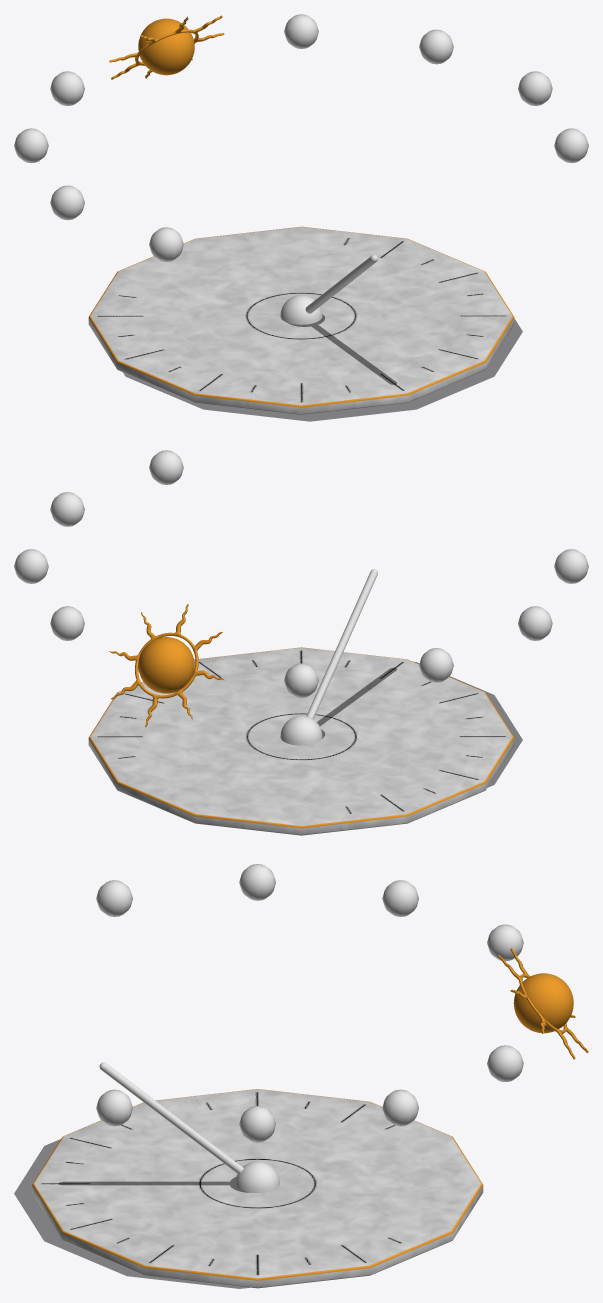
Rendered from sundail.glb.
3 views of the same model, one above another, from view 1: azimuth 30°, elevation 25°; view 2: azimuth 150°, elevation 25°; view 3: azimuth 270°, elevation 25° (orthographic). The views are drawn at different scales.
Parts seen in each view (by area): view 1: SundialBase, Shadow, Sun, Rod, SunPosition.006, SunPosition.002, SunPosition.007, SunPosition.005, SunPosition.001, SunPosition.003, SunPosition.008, SunPosition.004; view 2: SundialBase, Sun, Rod, Shadow, SunPosition.001, SunPosition.003, SunPosition.004, SunPosition.005, SunPosition.006, SunPosition.007, SunPosition.008, SunPosition.002; view 3: SundialBase, Shadow, Sun, Rod, SunPosition.004, SunPosition.008, SunPosition.003, SunPosition.006, SunPosition.001, SunPosition.007, SunPosition.005, SunPosition.002.
Part boxes in pixels (x1,y1,x2,y2): SundialBase: [88, 226, 514, 414]; Shadow: [123, 314, 522, 421]; Sun: [109, 15, 224, 79]; Rod: [280, 254, 377, 324]; SunPosition.006: [419, 29, 453, 64]; SunPosition.002: [50, 71, 84, 105]; SunPosition.007: [518, 71, 552, 105]; SunPosition.005: [149, 227, 183, 261]; SunPosition.001: [284, 14, 318, 48]; SunPosition.003: [14, 128, 48, 162]; SunPosition.008: [554, 128, 588, 162]; SunPosition.004: [50, 185, 84, 220]; SundialBase: [88, 647, 514, 835]; Sun: [109, 604, 223, 727]; Rod: [280, 569, 377, 745]; Shadow: [317, 661, 522, 787]; SunPosition.001: [50, 606, 84, 640]; SunPosition.003: [419, 648, 453, 682]; SunPosition.004: [518, 606, 552, 640]; SunPosition.005: [554, 549, 588, 583]; SunPosition.006: [14, 549, 48, 583]; SunPosition.007: [50, 492, 84, 526]; SunPosition.008: [149, 450, 183, 484]; SunPosition.002: [284, 663, 318, 697]; SundialBase: [32, 1089, 483, 1288]; Shadow: [14, 1139, 249, 1288]; Sun: [497, 948, 588, 1059]; Rod: [99, 1062, 279, 1192]; SunPosition.004: [239, 864, 275, 900]; SunPosition.008: [96, 1089, 132, 1126]; SunPosition.003: [382, 880, 418, 916]; SunPosition.006: [382, 1089, 418, 1126]; SunPosition.001: [487, 1045, 523, 1081]; SunPosition.007: [239, 1106, 275, 1142]; SunPosition.005: [96, 880, 132, 916]; SunPosition.002: [487, 924, 523, 961].
Size of the model in its own units: 2.7 by 1.17 by 2.55.
Materials: 4 (1 with a texture image).
